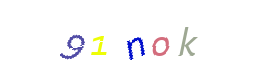1: (59, 0, 139, 80)
9: (44, 0, 124, 80)
K: (122, 0, 202, 80)
N: (92, 0, 172, 80)
O: (95, 0, 175, 80)
